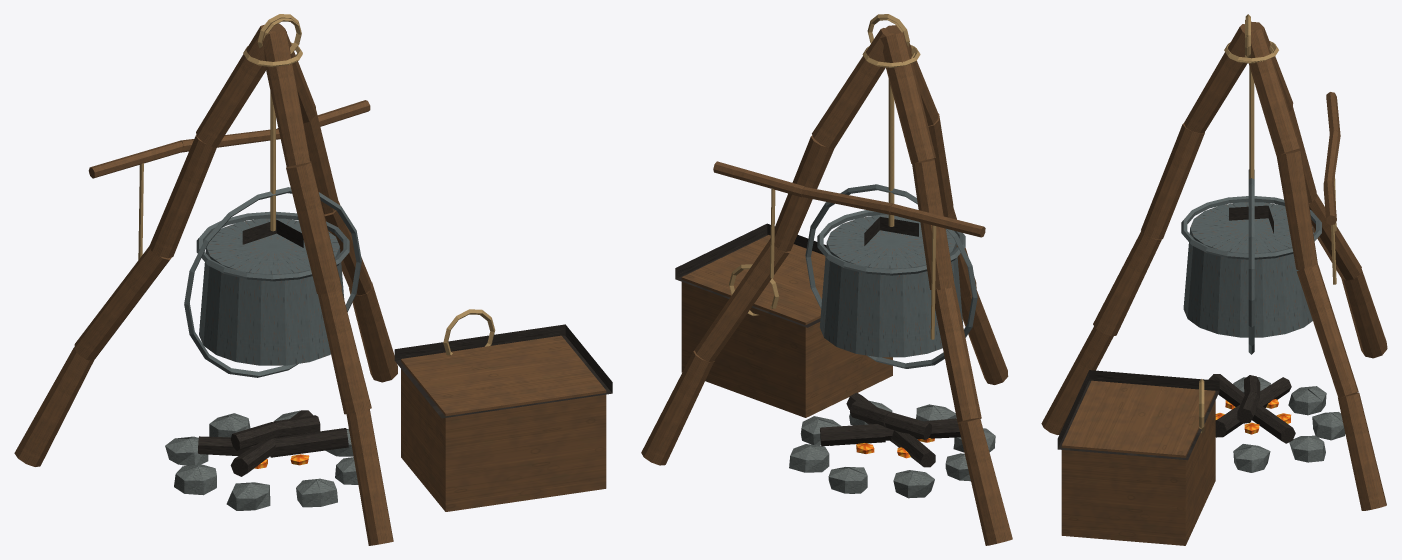
The model's file is en-017_cooking_corner_set__crate.obj.
The picture shows the model from 3 angles, left to right: view 1: azimuth 30°, elevation 25°; view 2: azimuth 150°, elevation 25°; view 3: azimuth 270°, elevation 25°; orthographic projection. The views are drawn at different scales.
Parts seen in each view (by area): view 1: en-017_cooking_corner_set__crate; view 2: en-017_cooking_corner_set__crate; view 3: en-017_cooking_corner_set__crate.
Boxes of the visible parts, x1,y1,x2,y2 form: en-017_cooking_corner_set__crate: [14, 14, 612, 545]; en-017_cooking_corner_set__crate: [641, 14, 1012, 545]; en-017_cooking_corner_set__crate: [1041, 14, 1387, 545].
Size of the model in its own units: 1.43 by 1.41 by 1.04.
Materials: 6 (6 with a texture image).
